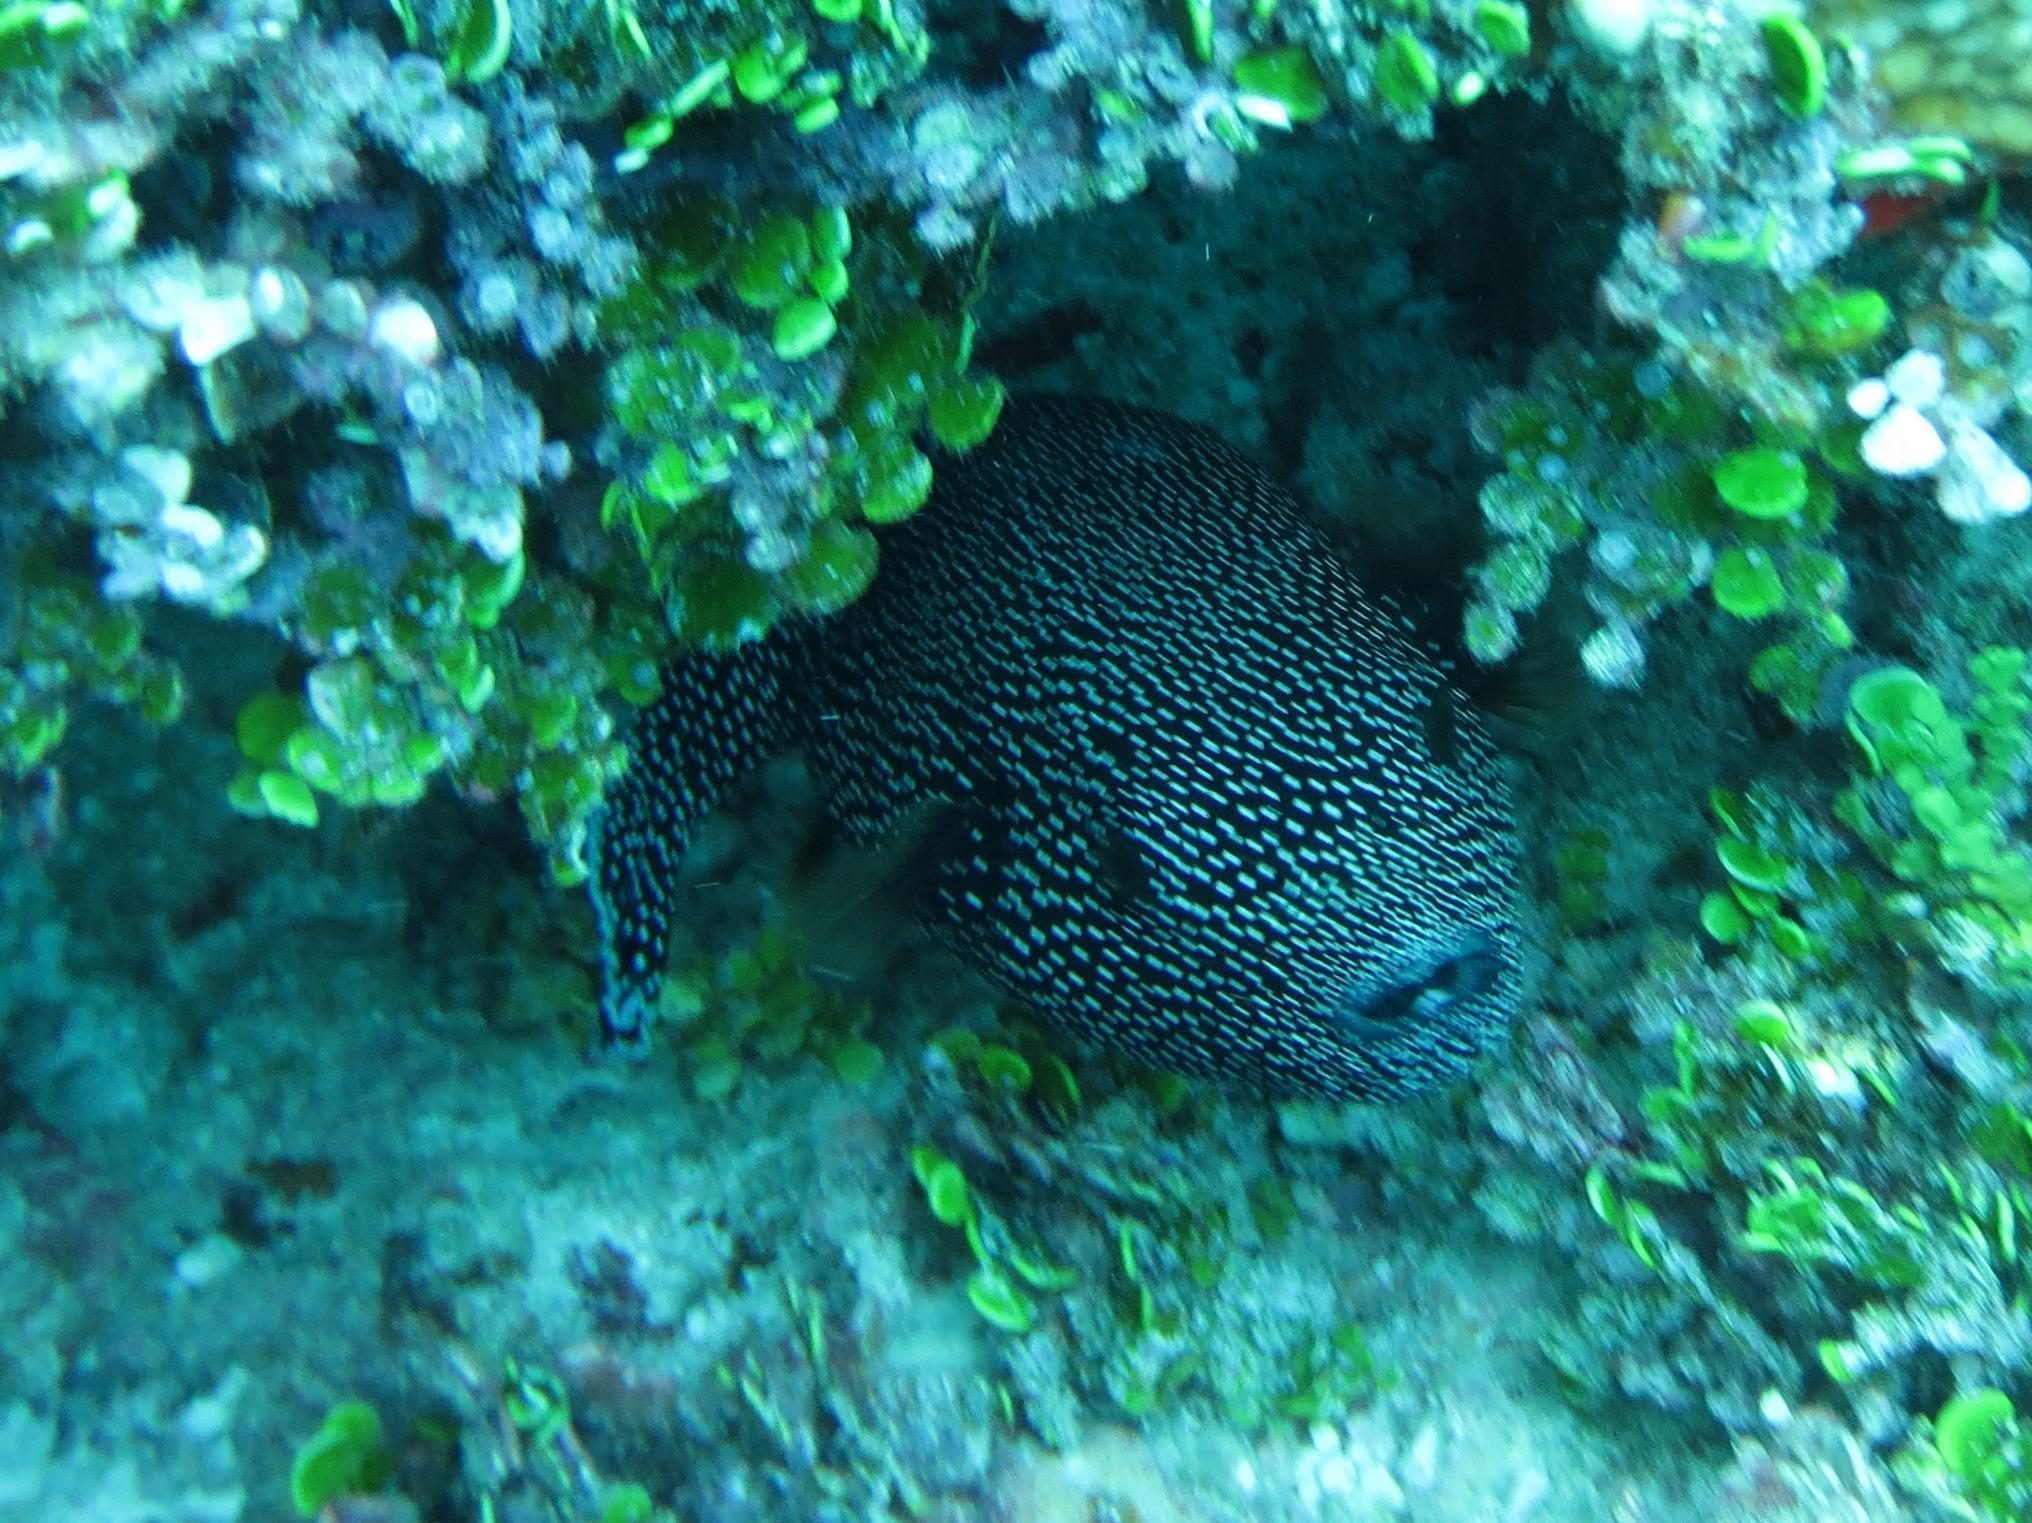Fish: (520, 298, 1648, 1278)
